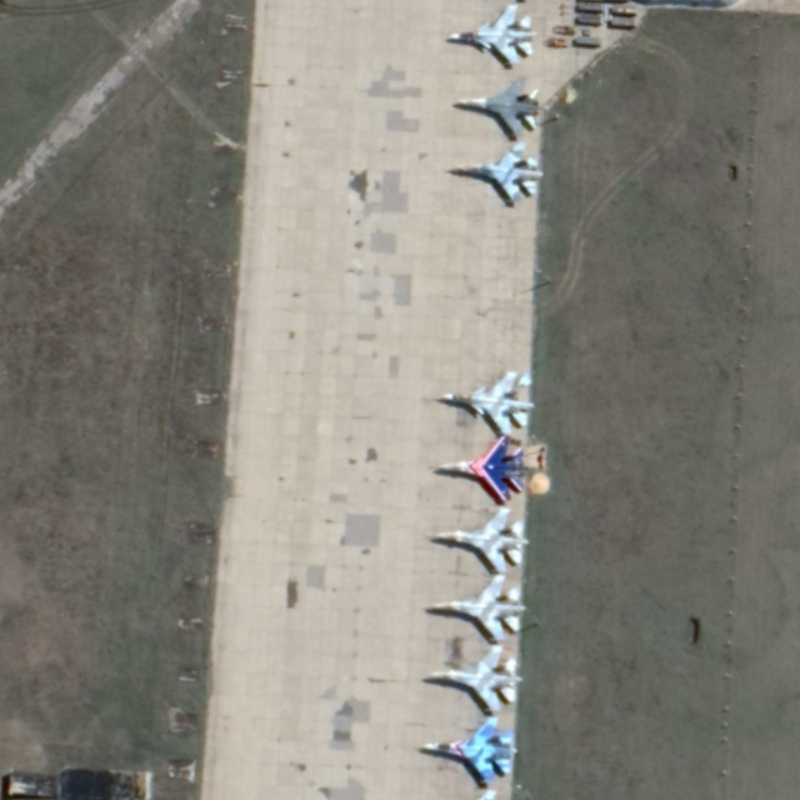A1: (421, 714, 521, 786), (427, 642, 524, 714), (434, 504, 531, 575), (430, 573, 528, 642), (438, 433, 532, 504), (455, 75, 551, 139), (453, 141, 545, 205)
A19: (441, 369, 537, 436), (446, 2, 539, 67)
